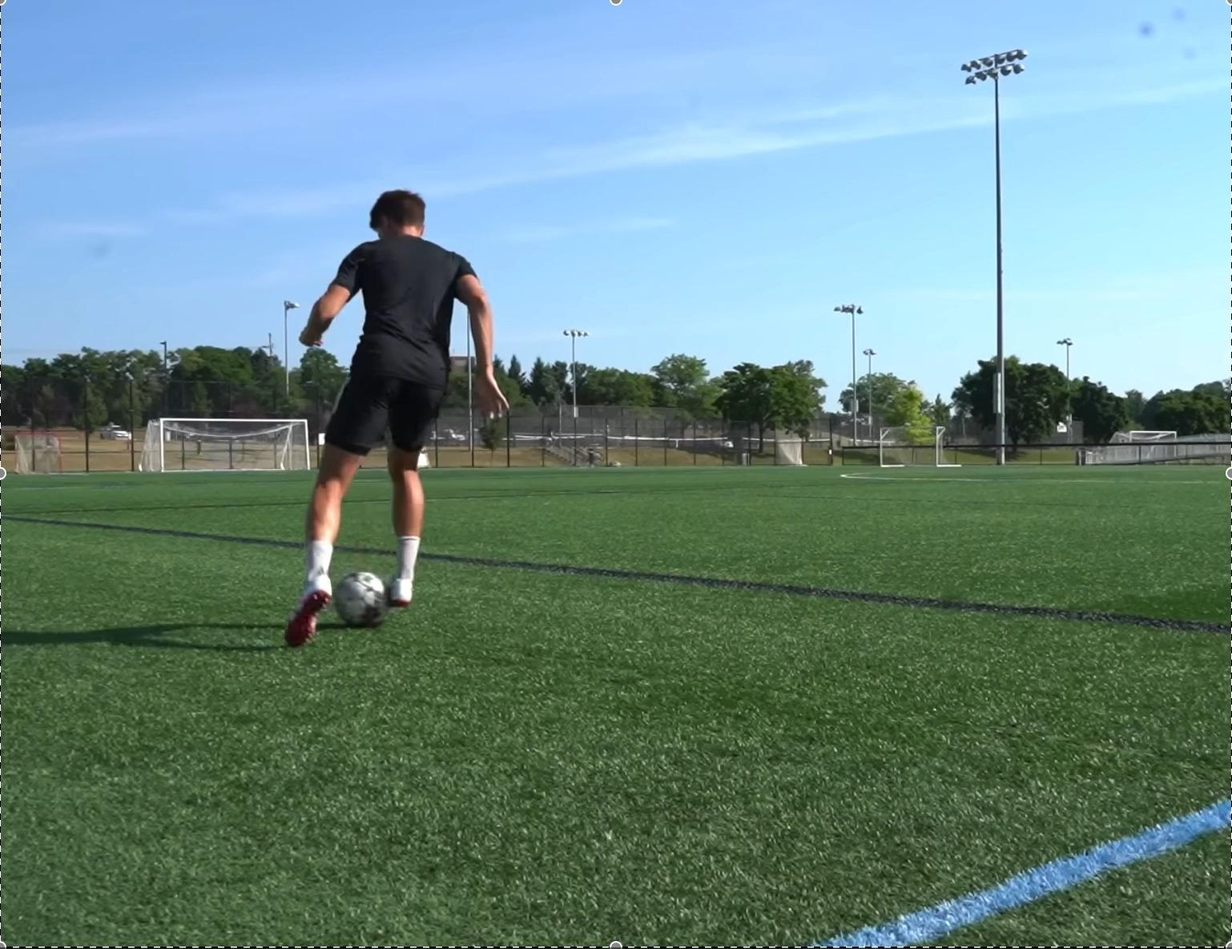ball: (334, 572, 388, 625)
foot: (280, 575, 332, 649), (388, 573, 415, 609)
person: (283, 189, 510, 648)
